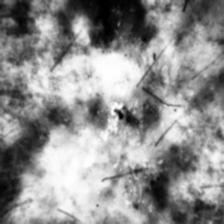Potentially Malignant Skin Tumors: (48, 0, 164, 139)
